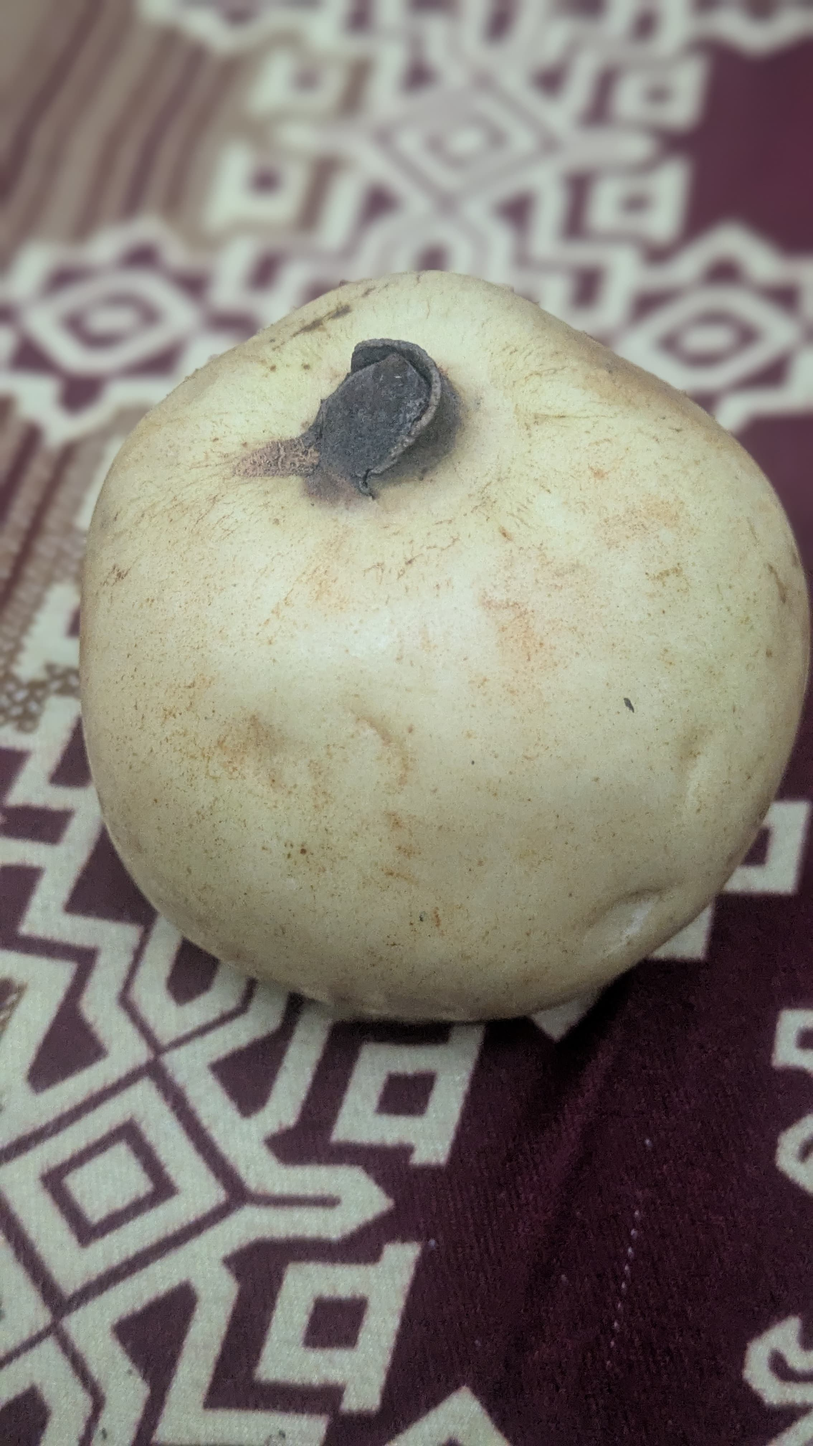guava: (119, 236, 621, 1126)
